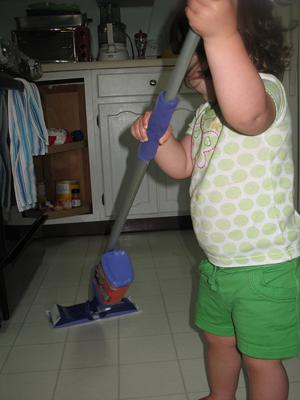person: (130, 2, 300, 400)
